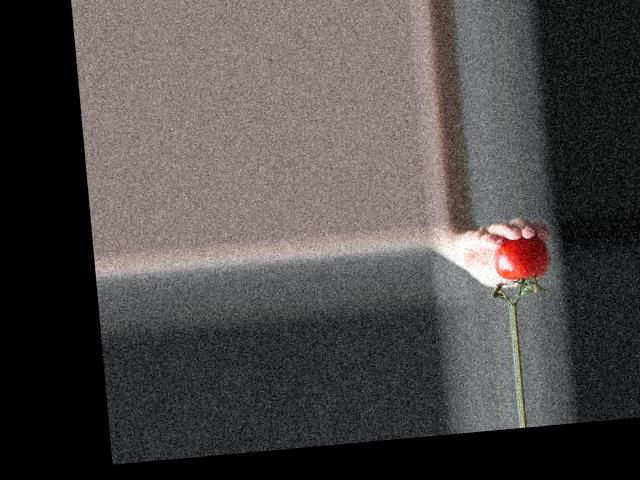tomato: (491, 233, 552, 283)
